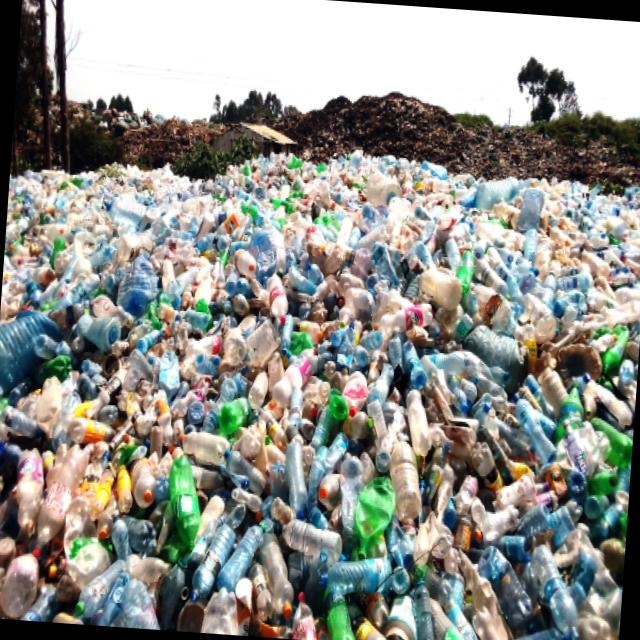plastic_bottle: (23, 85, 640, 640), (235, 197, 437, 563), (166, 423, 215, 572), (394, 368, 455, 476)
